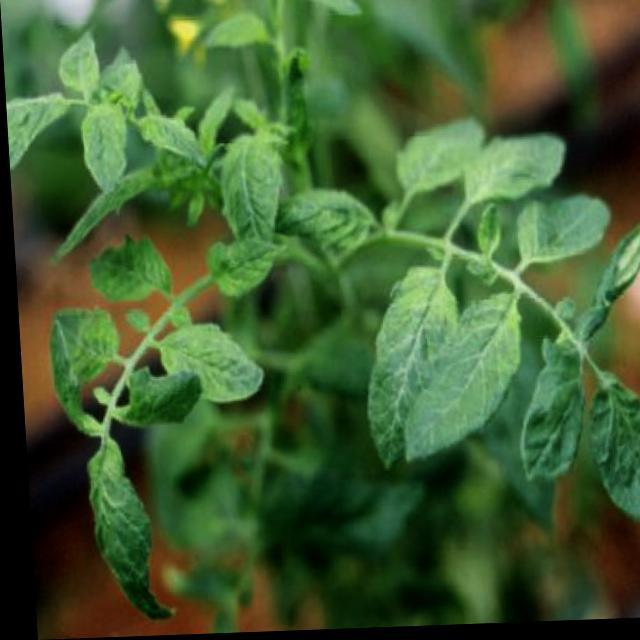Tomato yellow virus leaf: (394, 291, 526, 468), (362, 268, 456, 470), (80, 437, 170, 626), (584, 371, 639, 567), (458, 122, 564, 215), (505, 193, 608, 288), (156, 321, 256, 411), (219, 137, 286, 250), (84, 239, 172, 313), (200, 240, 292, 303), (130, 108, 208, 176), (80, 104, 128, 200)
